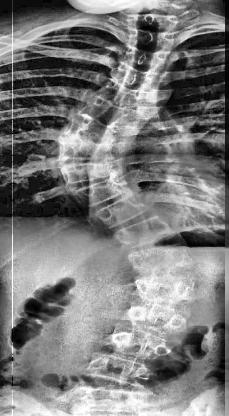Vertebrae: (112, 214, 172, 250), (121, 302, 193, 332), (111, 328, 182, 358), (86, 353, 154, 382), (93, 196, 149, 230), (127, 244, 195, 271), (134, 274, 198, 302), (64, 114, 116, 142), (73, 180, 125, 208), (112, 61, 158, 90), (57, 136, 109, 160), (60, 160, 112, 184), (82, 97, 128, 123), (98, 82, 142, 108), (130, 27, 176, 51), (126, 48, 165, 70)
